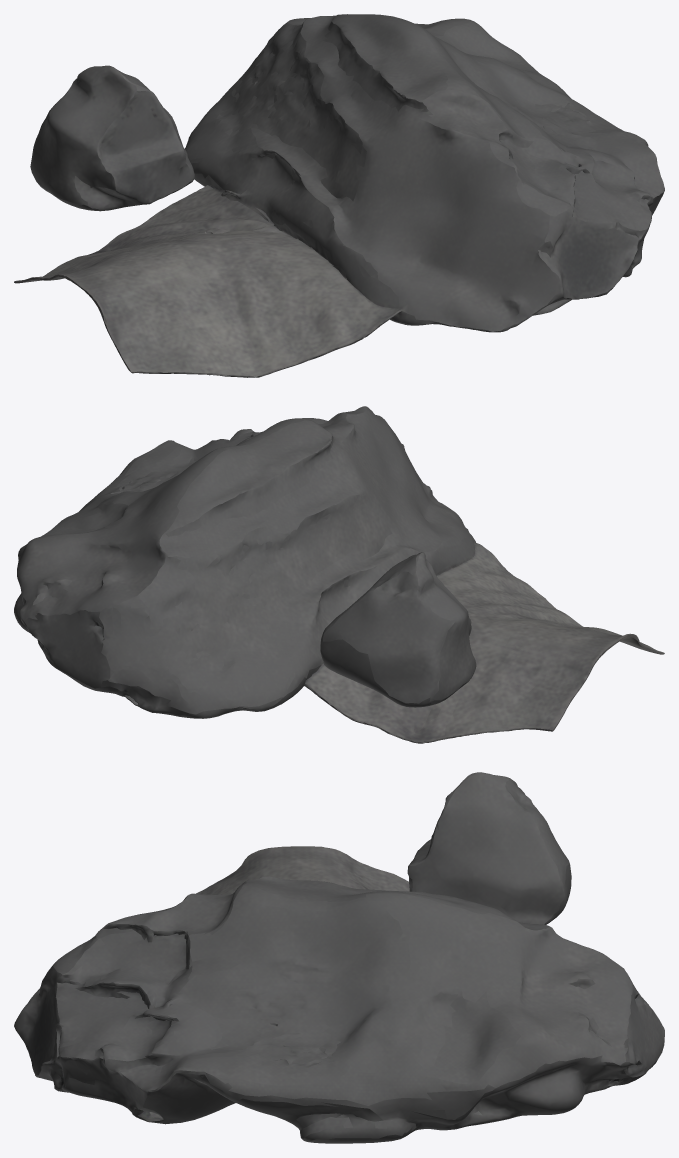
3 renders of one model, top to bottom at view 1: azimuth 30°, elevation 25°; view 2: azimuth 150°, elevation 25°; view 3: azimuth 270°, elevation 25°, orthographic. The views are drawn at different scales.
Parts seen in each view (by area): view 1: world; view 2: world; view 3: world.
Part boxes in pixels (x1=…): world: x1=14, y1=14, x2=664, y2=377; world: x1=14, y1=406, x2=664, y2=743; world: x1=14, y1=772, x2=664, y2=1143.
Size of the model in its own units: 1.2 by 0.4279 by 1.17.
Materials: 1 (1 with a texture image).
